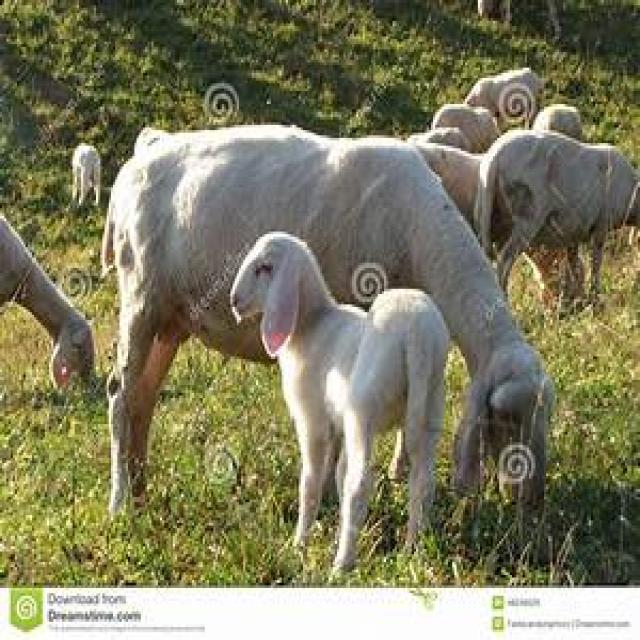sheep: (100, 122, 555, 526), (228, 229, 450, 572), (473, 125, 638, 309), (0, 203, 94, 393), (463, 65, 544, 128), (431, 101, 501, 151), (70, 141, 100, 208), (532, 101, 582, 138)
